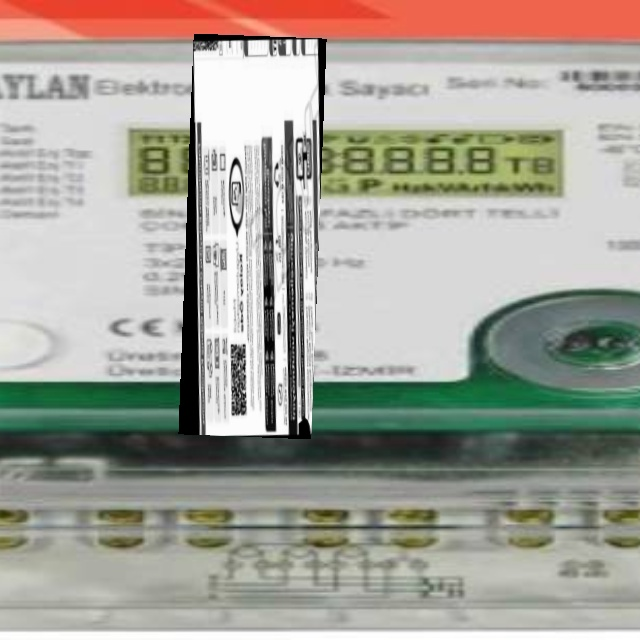electricity-bill: (177, 34, 327, 438)
